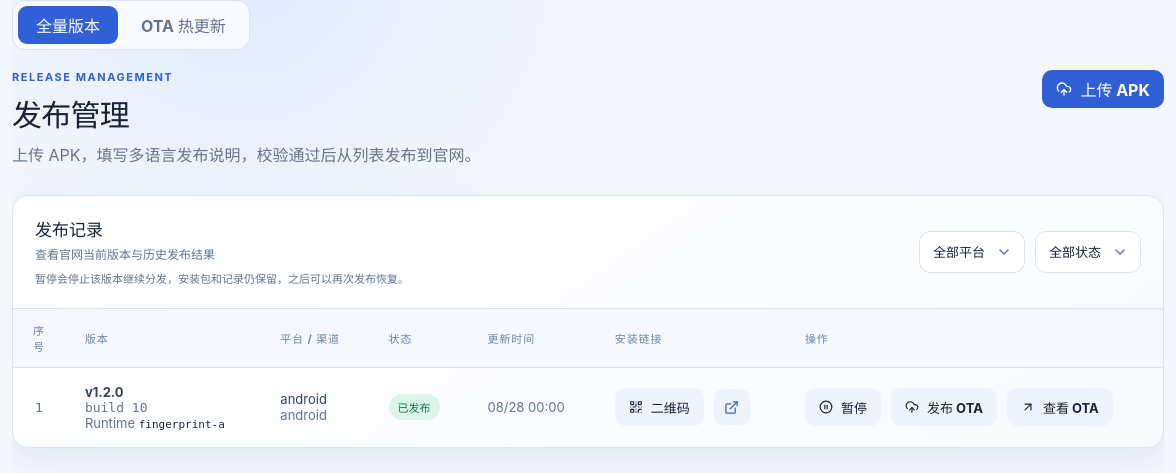
ReleasesPage actions › opens the OTA tab with the selected APK as context
The width and height of the screenshot is (1176, 473).
Click the button "查看 OTA" at (1060, 407), box top-left (1007, 388), bottom-right (1113, 426)
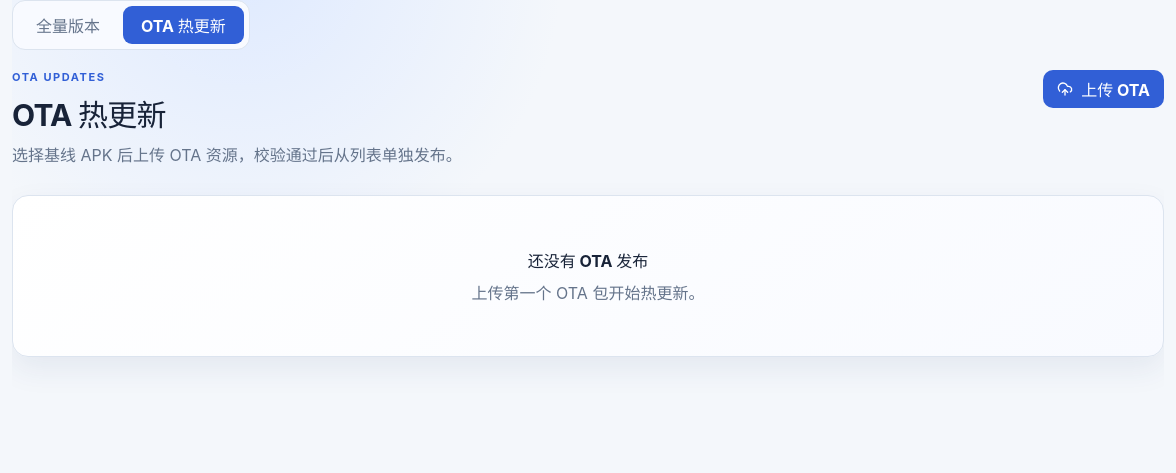
Result: the heading "OTA 热更新" is shown at top-left (12, 97), bottom-right (166, 133)
